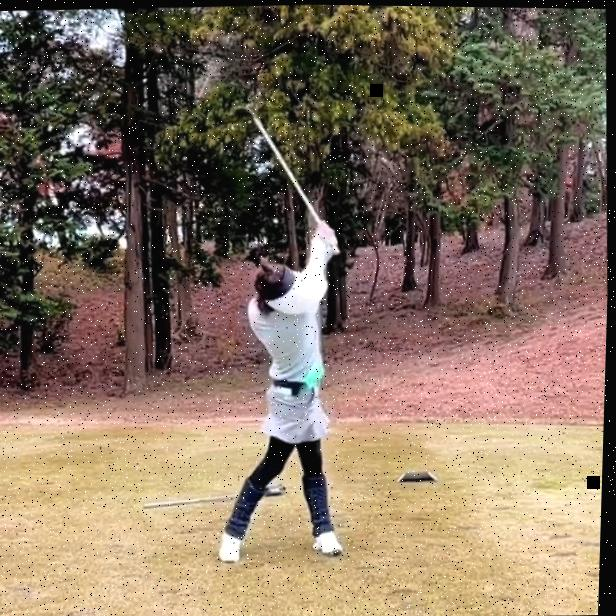ClubHead: (231, 104, 251, 117)
